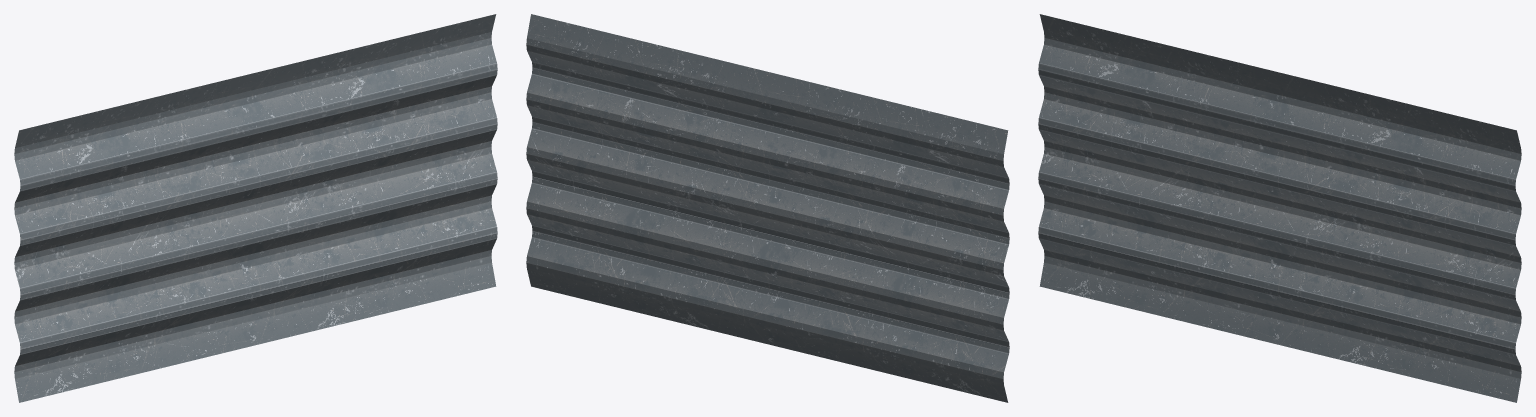
The model's file is Bend2_Gray.gltf.
The picture shows the model from 3 angles, left to right: view 1: azimuth 30°, elevation 25°; view 2: azimuth 150°, elevation 25°; view 3: azimuth 330°, elevation 25°; orthographic projection.
Parts seen in each view (by area): view 1: Plane.007; view 2: Plane.007; view 3: Plane.007.
Boxes of the visible parts, x1=… form: Plane.007: x1=14, y1=14, x2=497, y2=402; Plane.007: x1=526, y1=14, x2=1009, y2=402; Plane.007: x1=1038, y1=14, x2=1521, y2=402.
Bounding box in the file's own units: 7.03 × 3.84 × 0.155.
Materials: 1 (1 with a texture image).
